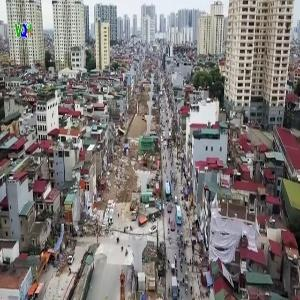drone: (40, 205, 117, 282)
